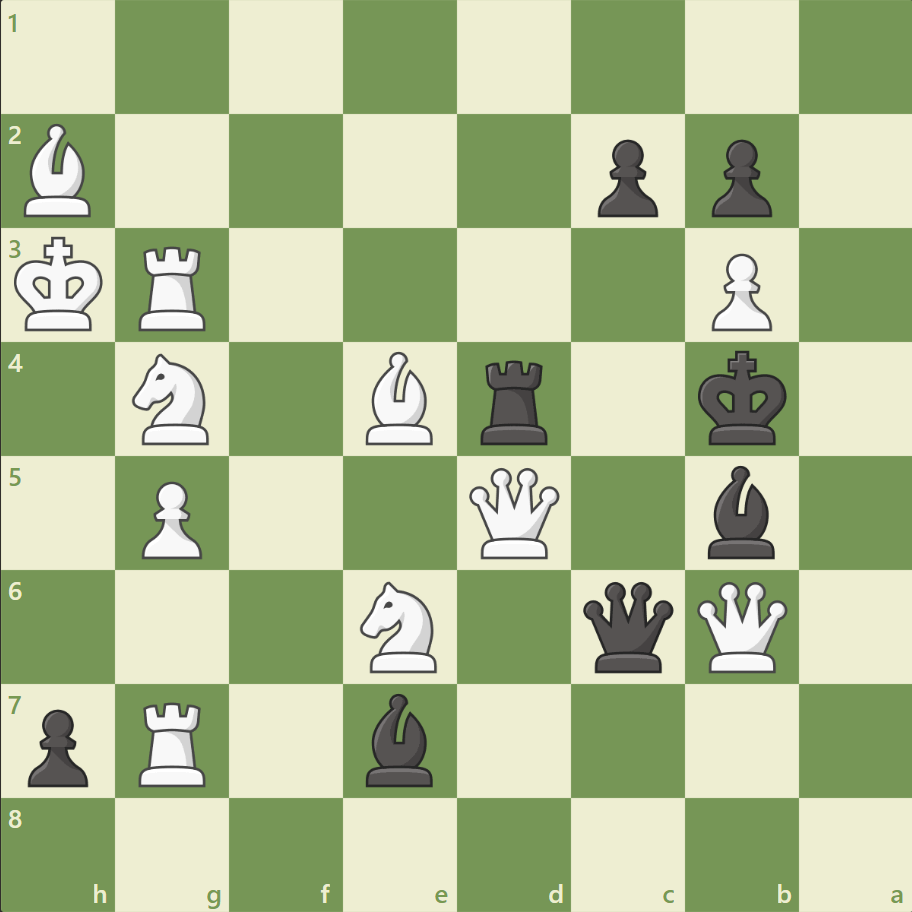B: (358, 347, 442, 449), (17, 120, 101, 222)
K: (11, 231, 111, 339)
N: (351, 575, 449, 677), (124, 348, 222, 450)
P: (133, 473, 208, 564), (701, 246, 776, 337)
Q: (691, 576, 790, 676), (464, 463, 563, 562)
R: (133, 693, 215, 790), (133, 239, 215, 336)
b: (358, 687, 442, 790), (698, 460, 782, 563)
k: (692, 344, 792, 452)
p: (20, 700, 95, 791), (701, 132, 776, 223), (588, 132, 662, 223)
q: (578, 576, 677, 676)
r: (473, 352, 556, 449)
